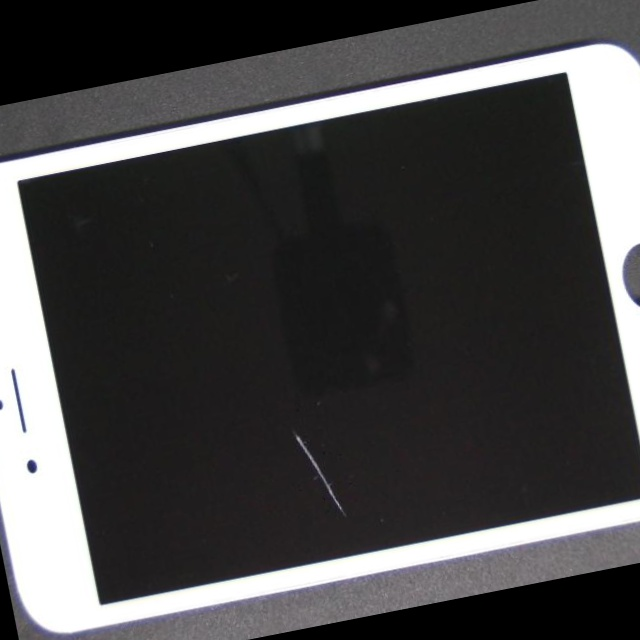scratch: (65, 158, 486, 640)
